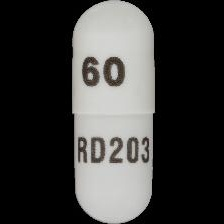69189-0817: (0, 0, 224, 224)
